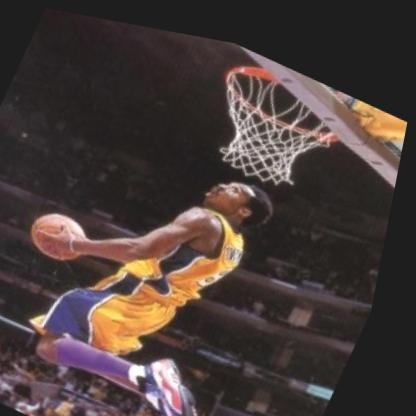basketball: (27, 199, 104, 267)
